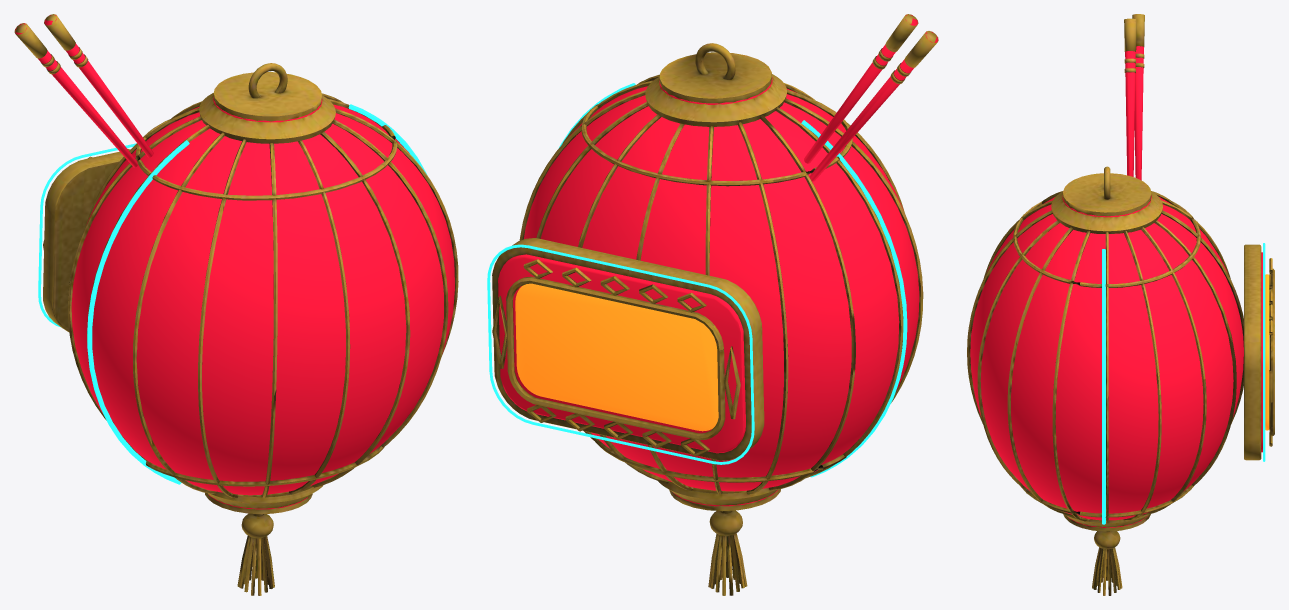
The picture shows the model from 3 angles, left to right: view 1: azimuth 30°, elevation 25°; view 2: azimuth 150°, elevation 25°; view 3: azimuth 270°, elevation 25°; orthographic projection. The views are drawn at different scales.
Visible parts, largest first — view 1: glow_Lantern_red_luminous_lacquer_paper, Brushed_polished_bamboo_gold, glow_Teal_neon_edge_piping; view 2: glow_Lantern_red_luminous_lacquer_paper, Brushed_polished_bamboo_gold, glow_Warm_amber_counter_glass, glow_Teal_neon_edge_piping; view 3: glow_Lantern_red_luminous_lacquer_paper, Brushed_polished_bamboo_gold, glow_Teal_neon_edge_piping, glow_Warm_amber_counter_glass.
Boxes of the visible parts, <box> form: glow_Lantern_red_luminous_lacquer_paper: <box>15,15,454,509</box>; Brushed_polished_bamboo_gold: <box>14,14,458,595</box>; glow_Teal_neon_edge_piping: <box>38,104,426,484</box>; glow_Lantern_red_luminous_lacquer_paper: <box>498,14,937,506</box>; Brushed_polished_bamboo_gold: <box>492,14,938,595</box>; glow_Warm_amber_counter_glass: <box>515,283,718,431</box>; glow_Teal_neon_edge_piping: <box>487,83,907,477</box>; glow_Lantern_red_luminous_lacquer_paper: <box>970,46,1262,527</box>; Brushed_polished_bamboo_gold: <box>967,14,1274,595</box>; glow_Teal_neon_edge_piping: <box>1102,243,1265,524</box>; glow_Warm_amber_counter_glass: <box>1265,274,1269,430</box>.
Size of the model in its own units: 1.64 by 2.36 by 1.32.
4 materials, 1 textured.
